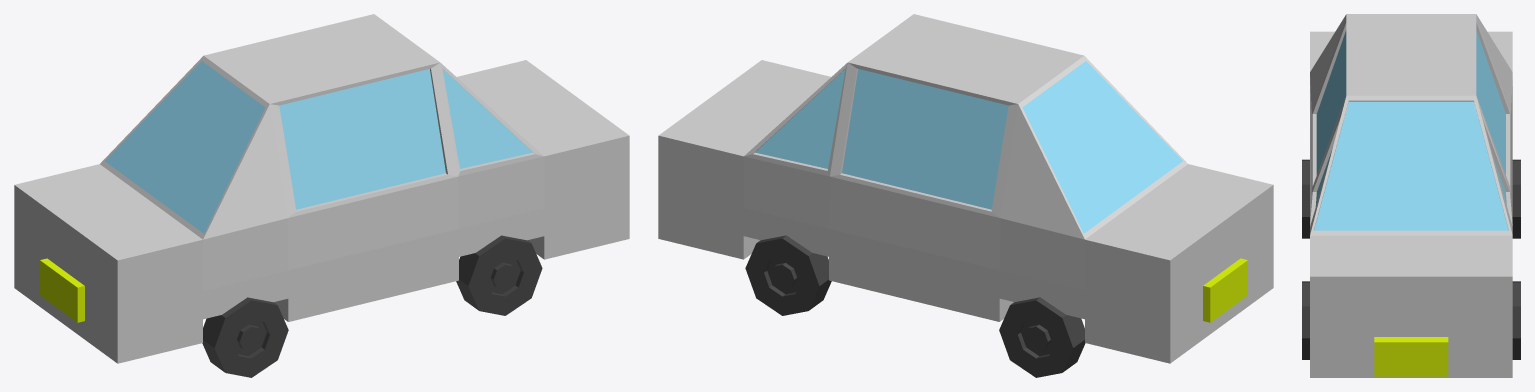
The model's file is car.fbx.
3 renders of one model, left to right at view 1: azimuth 30°, elevation 25°; view 2: azimuth 150°, elevation 25°; view 3: azimuth 270°, elevation 25°, orthographic.
Parts seen in each view (by area): view 1: Cube.142; view 2: Cube.142; view 3: Cube.142.
Boxes of the visible parts, <box> form: Cube.142: <box>14,14,629,377</box>; Cube.142: <box>658,14,1273,377</box>; Cube.142: <box>1302,14,1520,377</box>.
Size of the model in its own units: 543 by 242 by 198.
